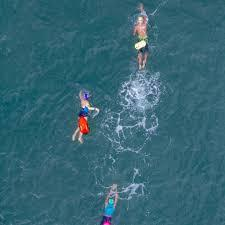swimmer: (69, 88, 100, 145), (133, 3, 151, 69), (100, 183, 119, 225)
